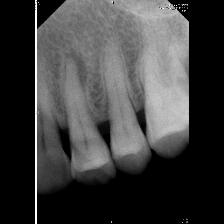apical_lesion: (47, 24, 117, 185)
